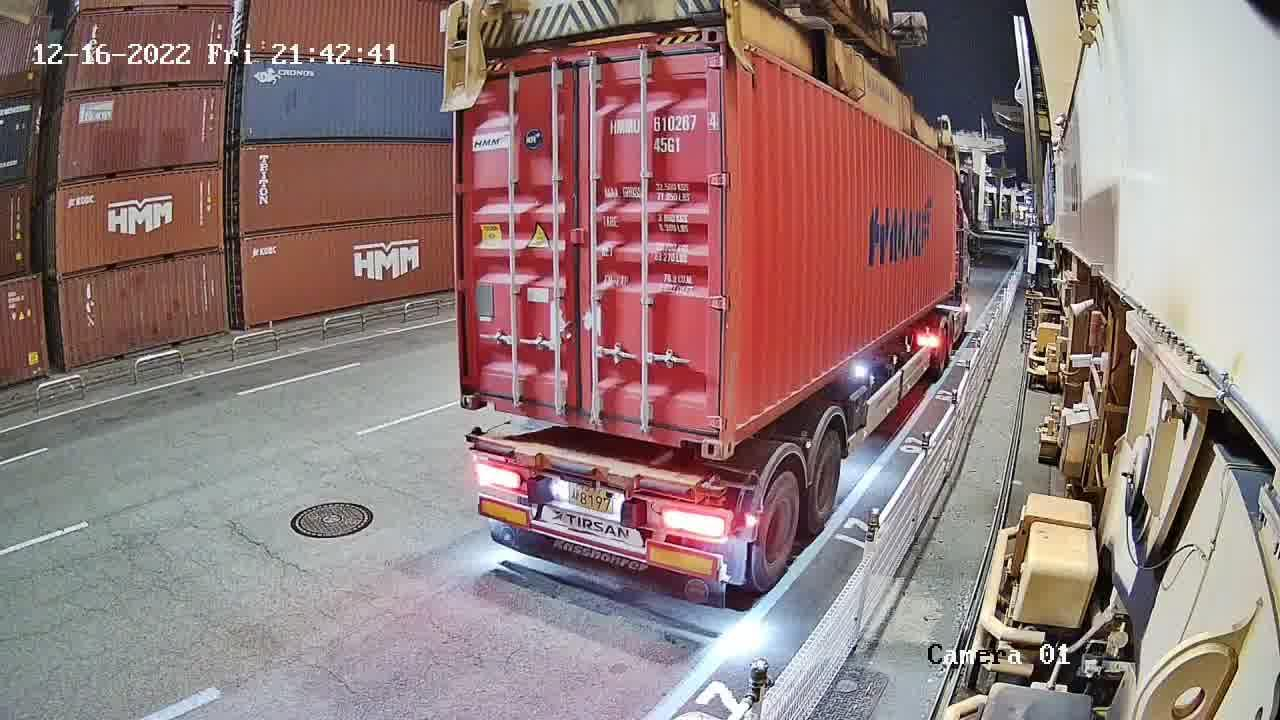Chassis: (469, 437, 727, 537)
Cone: (705, 474, 726, 505), (470, 423, 483, 458)
Hole_L: (719, 395, 756, 462), (457, 365, 501, 410)
Hole_R: (677, 403, 719, 460)
Tire: (749, 474, 801, 589), (809, 435, 841, 533)
